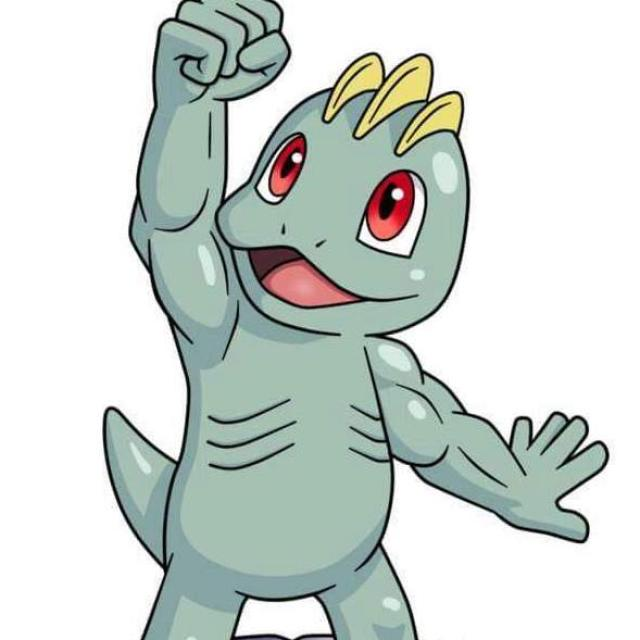Machop: (103, 0, 495, 640)
